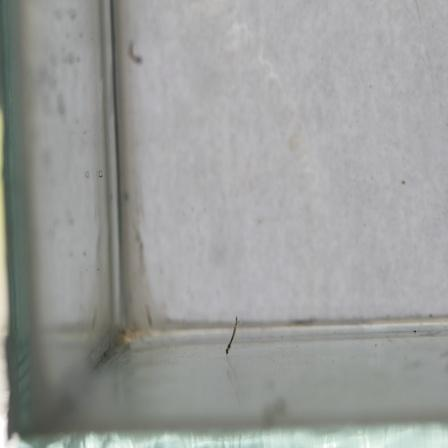Jentik-Nyamuk: (223, 312, 243, 359)
